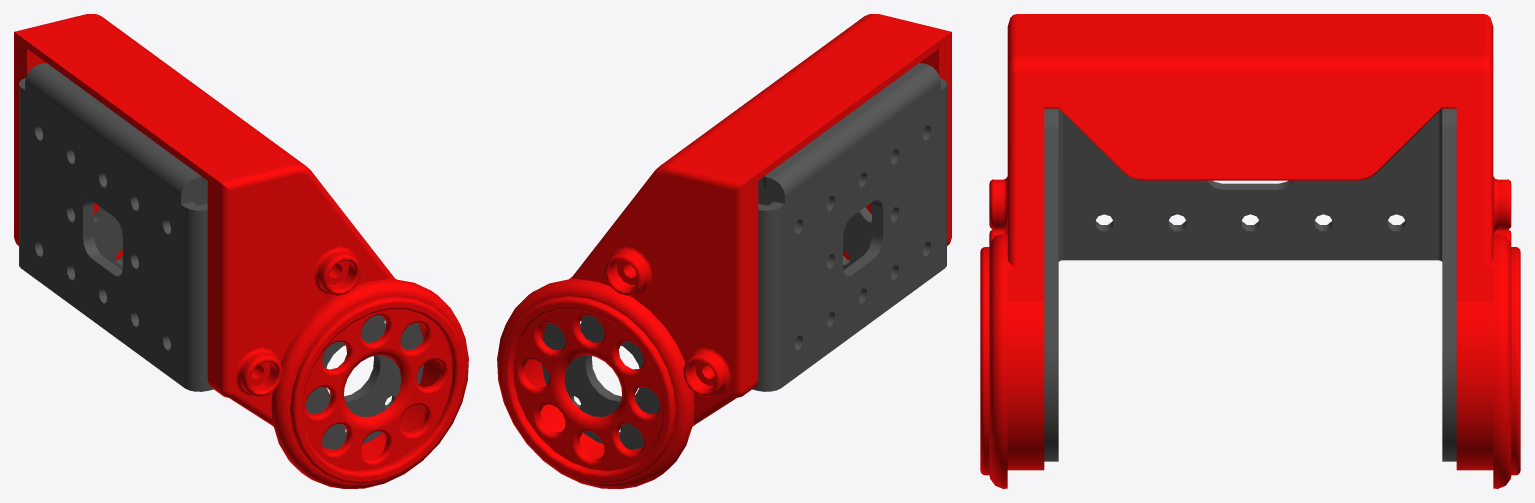
File: shoulder-left.obj
The picture shows the model from 3 angles, left to right: view 1: azimuth 30°, elevation 25°; view 2: azimuth 150°, elevation 25°; view 3: azimuth 270°, elevation 25°; orthographic projection. The views are drawn at different scales.
Parts seen in each view (by area): view 1: Solid1; view 2: Solid1; view 3: Solid1.
Boxes of the visible parts, box(x1,y1,x2,y2) form: Solid1: box(14, 14, 468, 488); Solid1: box(497, 14, 951, 488); Solid1: box(980, 14, 1520, 488).
Bounding box in the file's own units: 1.46 × 1.82 × 2.33.
